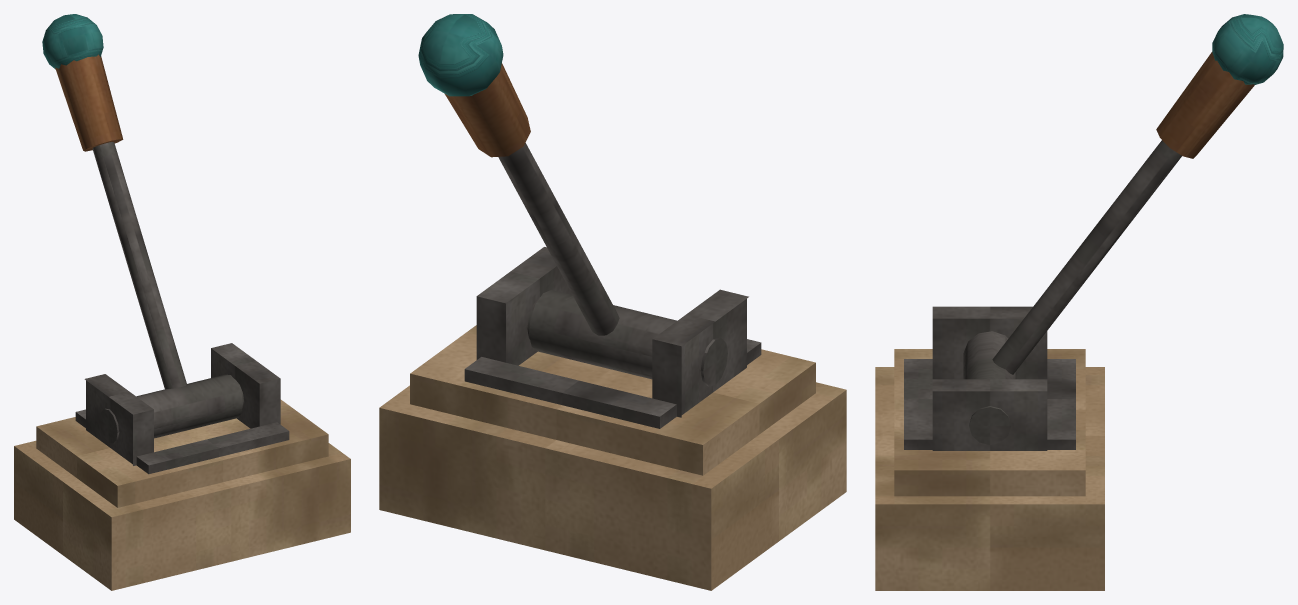
File: lever.glb
The picture shows the model from 3 angles, left to right: view 1: azimuth 30°, elevation 25°; view 2: azimuth 150°, elevation 25°; view 3: azimuth 270°, elevation 25°; orthographic projection. The views are drawn at different scales.
Visible parts, largest first — view 1: Frame, Handle; view 2: Frame, Handle; view 3: Frame, Handle.
Part boxes in pixels (x1,y1,x2,y2): Frame: (14, 343, 350, 590); Handle: (42, 14, 242, 438); Frame: (379, 247, 846, 590); Handle: (418, 14, 676, 379); Frame: (875, 306, 1104, 590); Handle: (963, 14, 1283, 379).
Size of the model in its own units: 0.34 by 0.5824 by 0.427.
4 materials, 4 textured.
